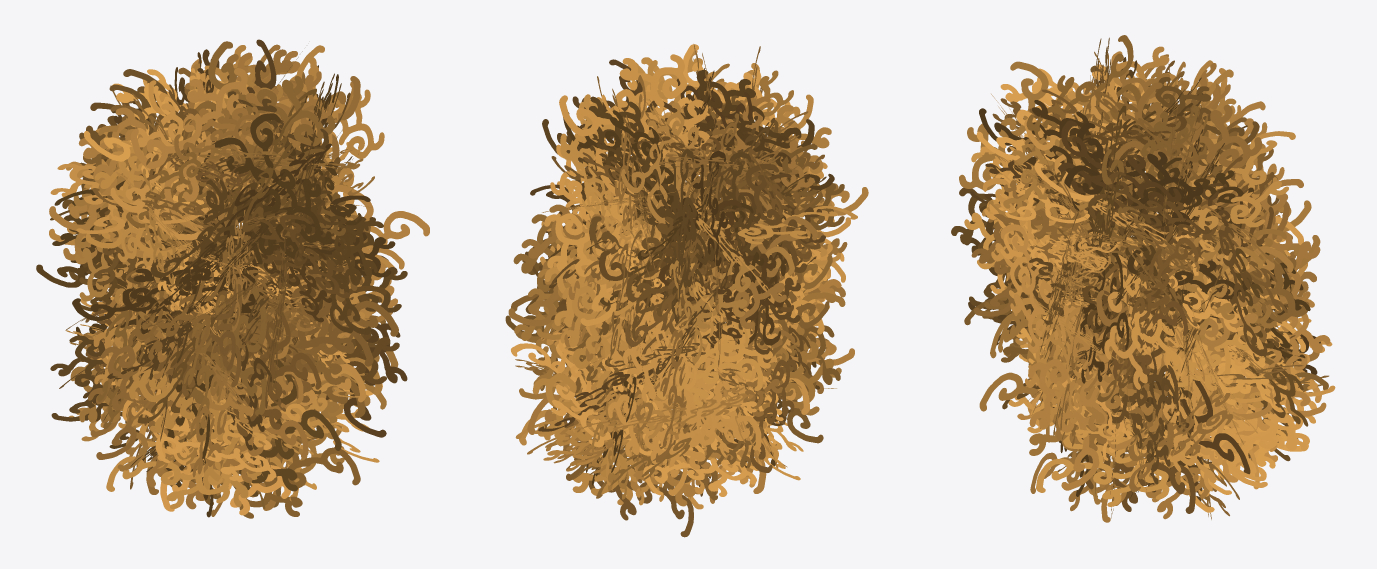
File: Tree_Leaves_Curly_02.fbx
3 views of the same model, side by side, from view 1: azimuth 30°, elevation 25°; view 2: azimuth 150°, elevation 25°; view 3: azimuth 270°, elevation 25° (orthographic). The views are drawn at different scales.
Visible parts, largest first — view 1: Leaves_Curly_02; view 2: Leaves_Curly_02; view 3: Leaves_Curly_02.
Part boxes in pixels (x1,y1,x2,y2): Leaves_Curly_02: [36, 39, 429, 518]; Leaves_Curly_02: [505, 44, 868, 537]; Leaves_Curly_02: [951, 35, 1335, 522].
Size of the model in its own units: 471 by 640 by 500.
Materials: 1 (1 with a texture image).
